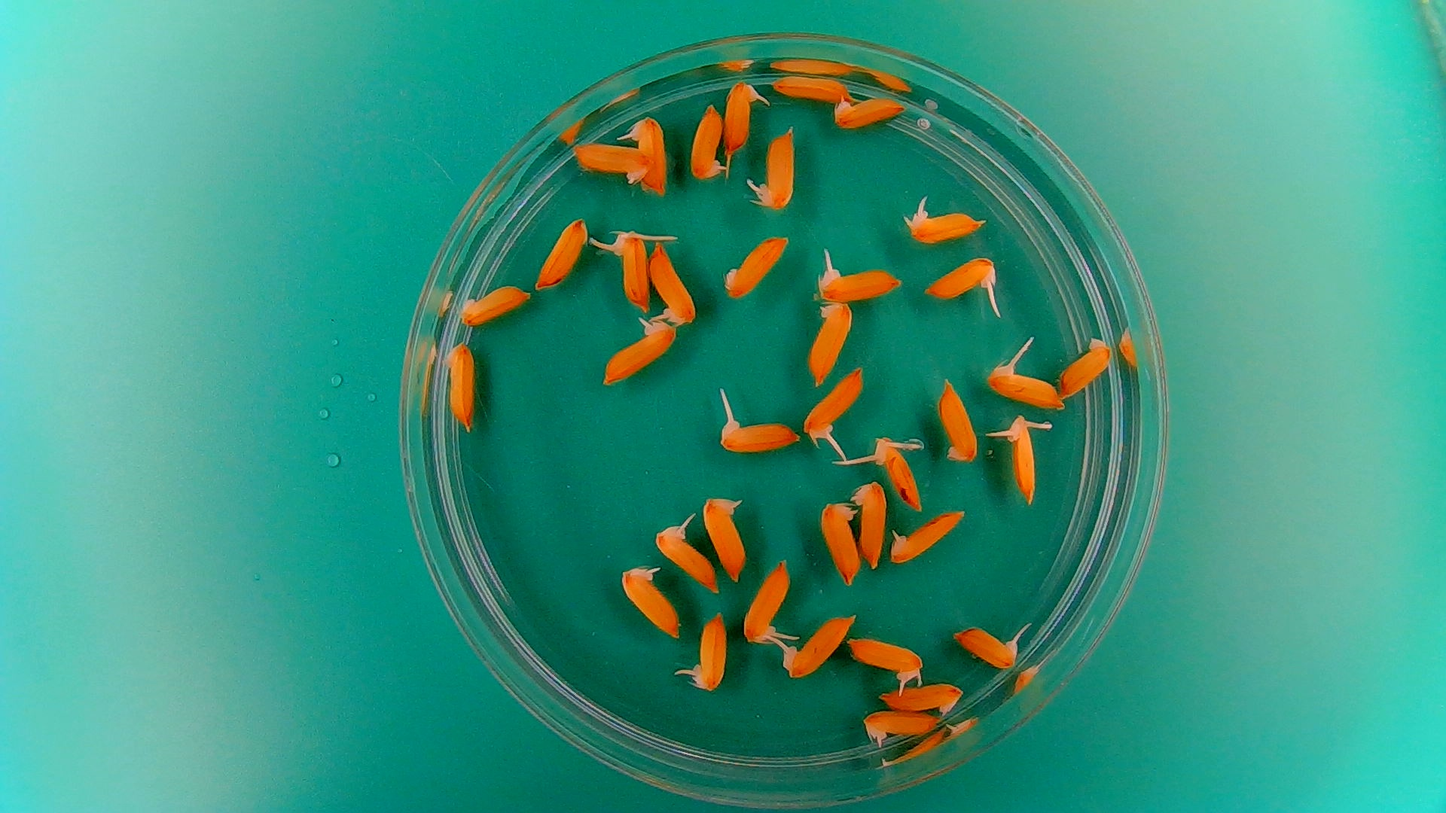no: (720, 232, 790, 303), (804, 298, 856, 388), (535, 214, 591, 290), (817, 496, 863, 587), (936, 376, 979, 465), (441, 340, 480, 431), (456, 281, 532, 326), (1058, 336, 1114, 397), (572, 141, 651, 183), (880, 682, 962, 721), (854, 477, 888, 571), (770, 72, 856, 105), (832, 97, 905, 132)
yes: (598, 314, 679, 386), (801, 364, 867, 449), (784, 608, 856, 682), (655, 520, 721, 595), (621, 562, 679, 643), (645, 241, 697, 327), (740, 558, 790, 647), (701, 492, 750, 582), (847, 635, 923, 690), (887, 508, 960, 565), (875, 435, 927, 510), (685, 607, 729, 693), (924, 253, 1001, 300), (751, 129, 797, 207), (949, 622, 1023, 670), (1003, 412, 1041, 504), (991, 363, 1063, 411), (722, 77, 768, 151), (901, 201, 979, 244), (863, 711, 948, 750), (688, 100, 727, 184), (721, 418, 801, 457), (630, 114, 668, 196), (816, 265, 898, 303), (616, 230, 651, 309)
